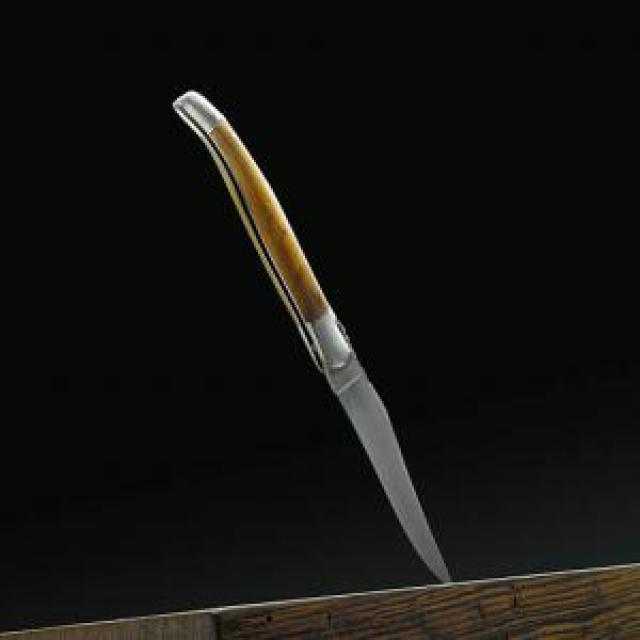knife: (166, 88, 454, 586)
